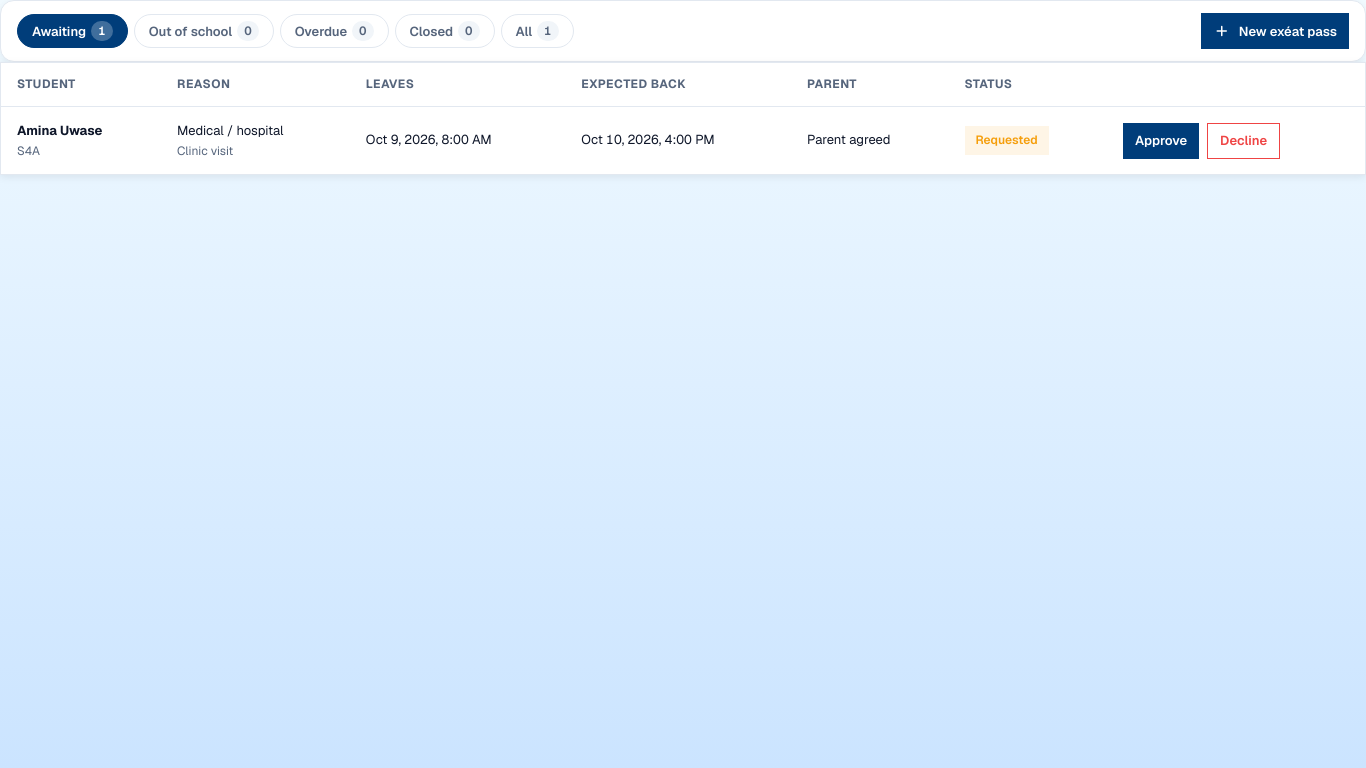
Test: ExeatTab › says so when the server refuses a step
Click the button "Approve" at (1161, 141), box 1123,123 -> 1199,159
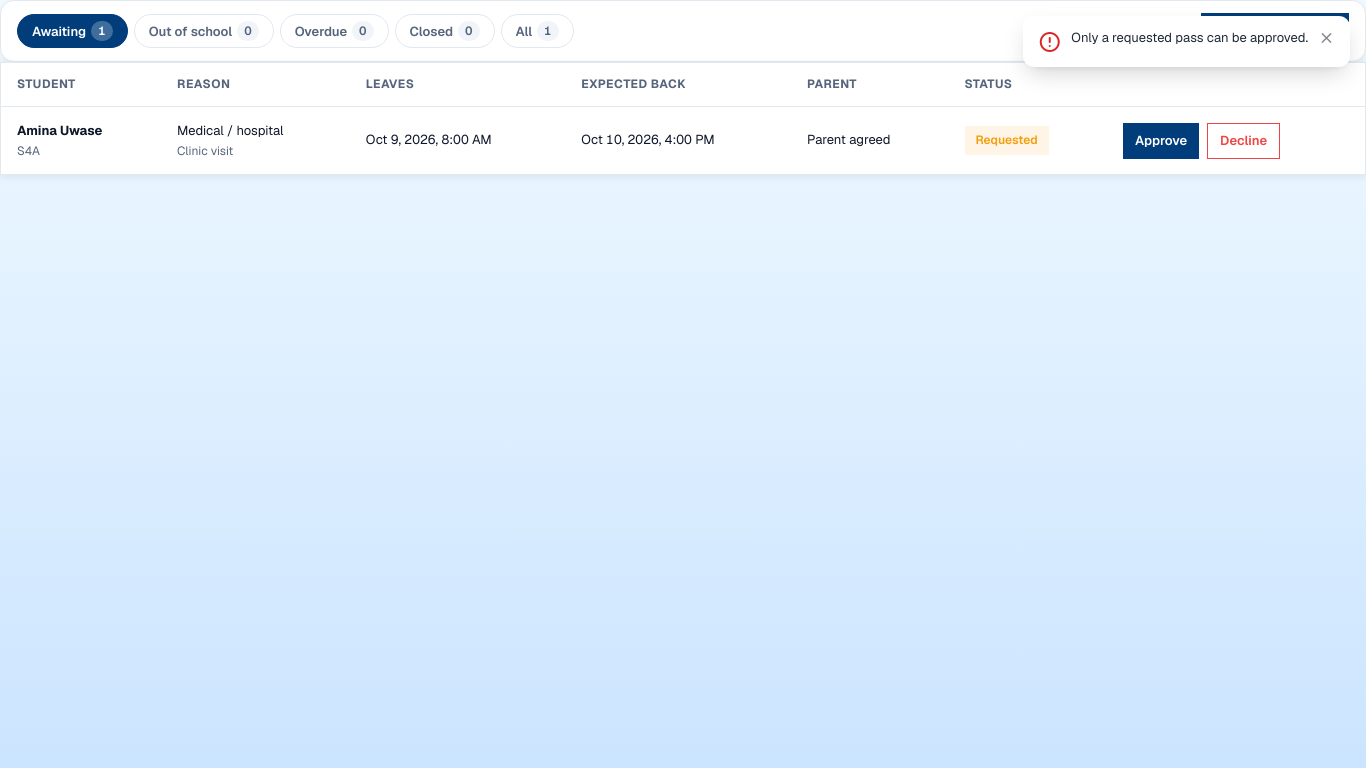
Now the text "Only a requested pass can be approved." is shown, box 1071,29 -> 1308,47
